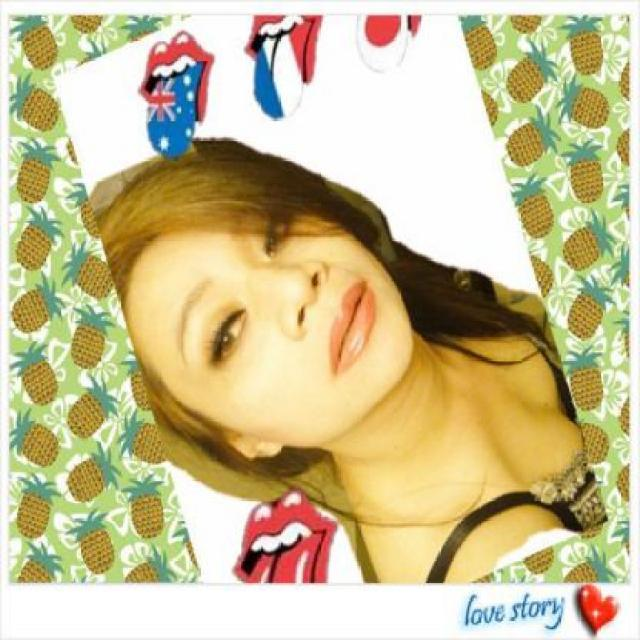Pineapple: (562, 270, 621, 342), (511, 34, 560, 104), (60, 236, 114, 299), (11, 68, 64, 132), (557, 66, 614, 125), (12, 204, 62, 270), (20, 472, 66, 543), (504, 105, 558, 164), (8, 343, 56, 408), (69, 301, 114, 370), (562, 210, 618, 264), (558, 133, 604, 198), (19, 137, 64, 203), (119, 471, 164, 537), (557, 13, 606, 72), (65, 508, 108, 574), (9, 406, 62, 459), (7, 13, 56, 70), (562, 344, 604, 410), (116, 407, 167, 461), (455, 8, 497, 72), (513, 173, 547, 241), (122, 346, 147, 414), (566, 546, 611, 582), (22, 546, 66, 582), (118, 5, 160, 38), (608, 307, 630, 361), (68, 12, 98, 32)
